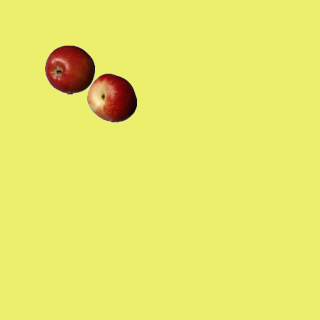Apple Braeburn: (44, 44, 94, 94)
Nectarine: (86, 72, 136, 122)
